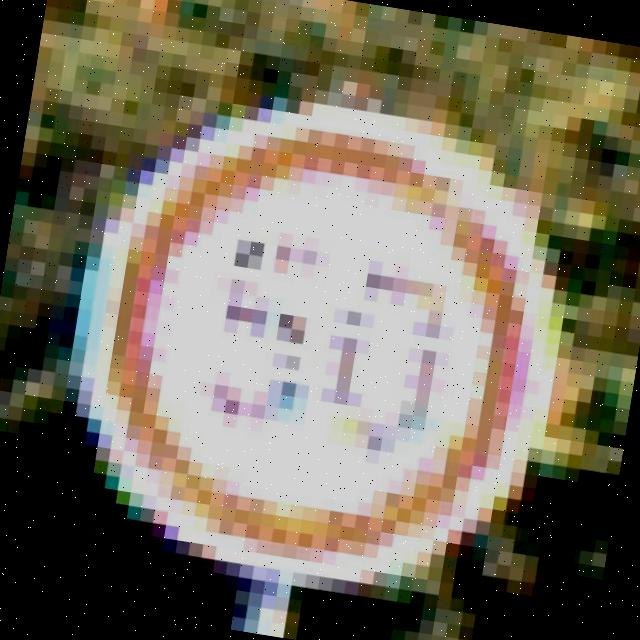Ograniczenie predkosci do 50: (92, 106, 548, 581)
